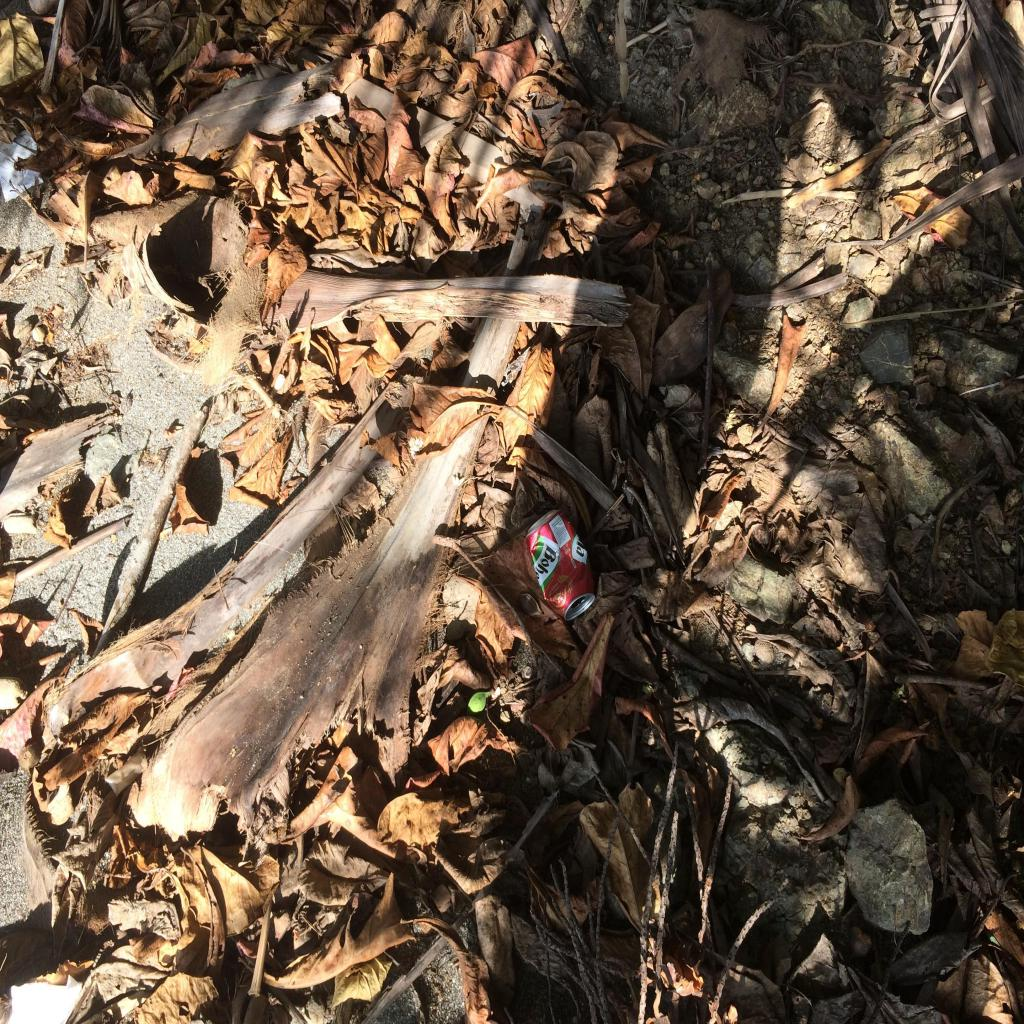Drink can: (525, 509, 595, 621)
